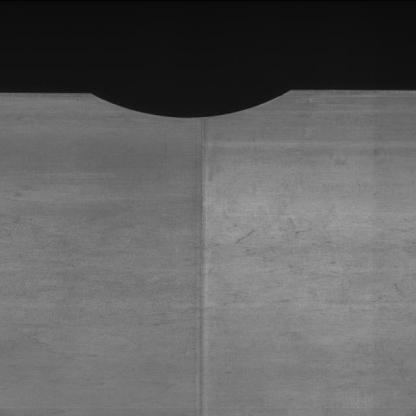welding_line: (184, 112, 220, 416)
